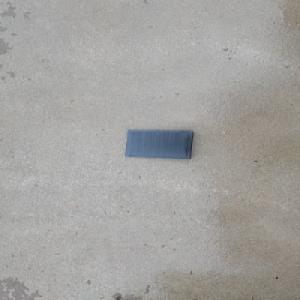PlasticPart: (123, 129, 195, 159)
